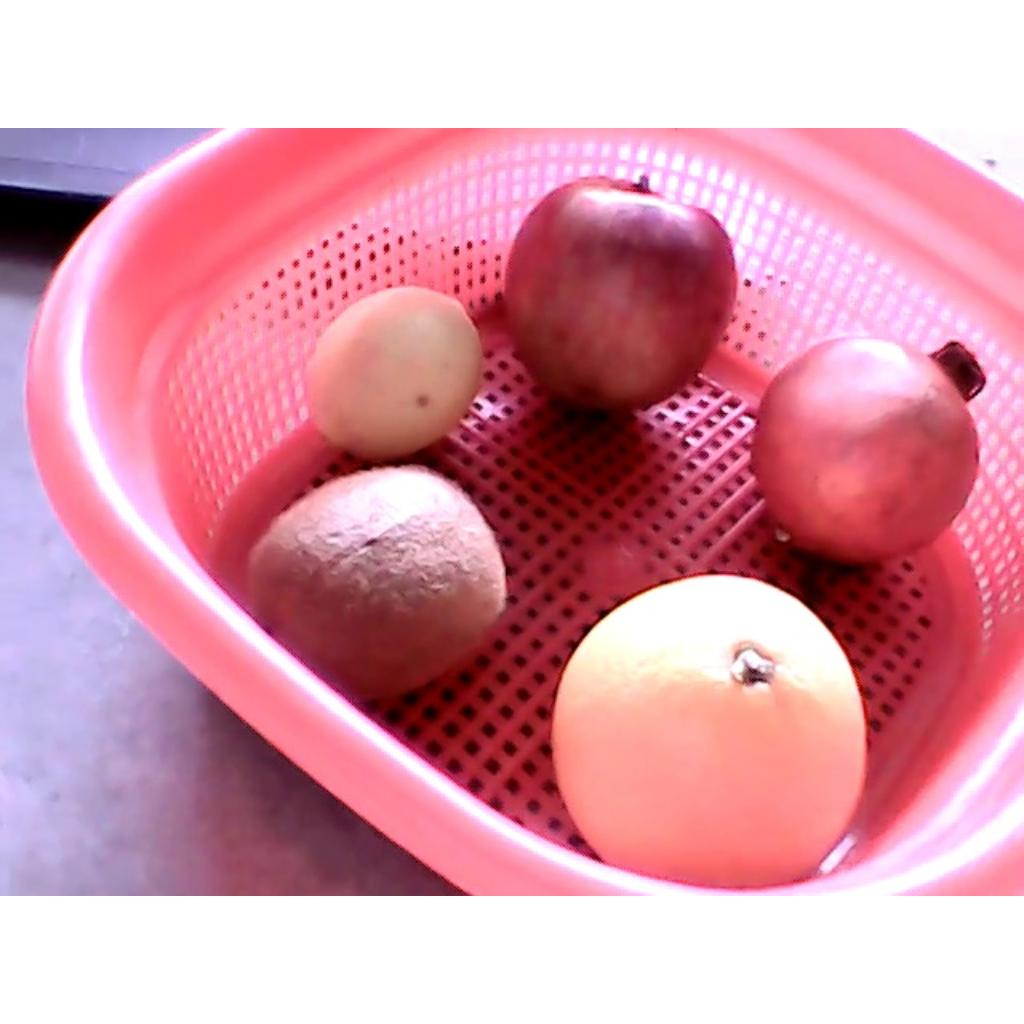apple: (505, 173, 739, 412)
kiwi: (246, 466, 504, 703)
lemon: (303, 287, 485, 460)
orange: (551, 574, 868, 892)
pomegranate: (750, 338, 989, 564)
